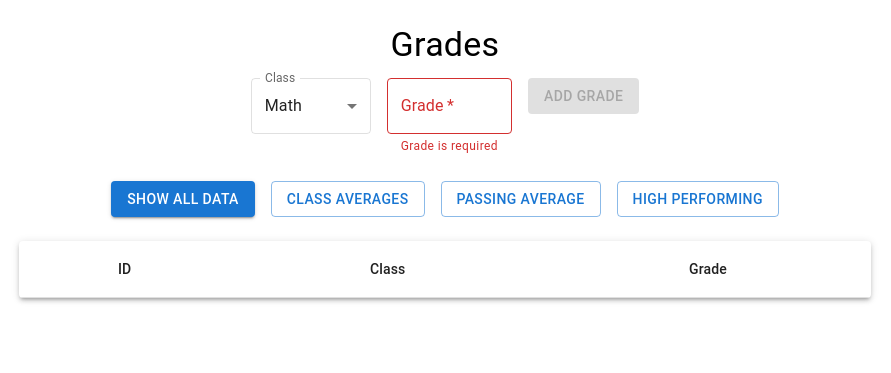
Test case: GradesPage › submits new grade and refreshes table
The image size is (891, 373).
Type "95" into the number field labelled "Grade *".
click(449, 106); type("95")  # box [387, 78, 512, 134]
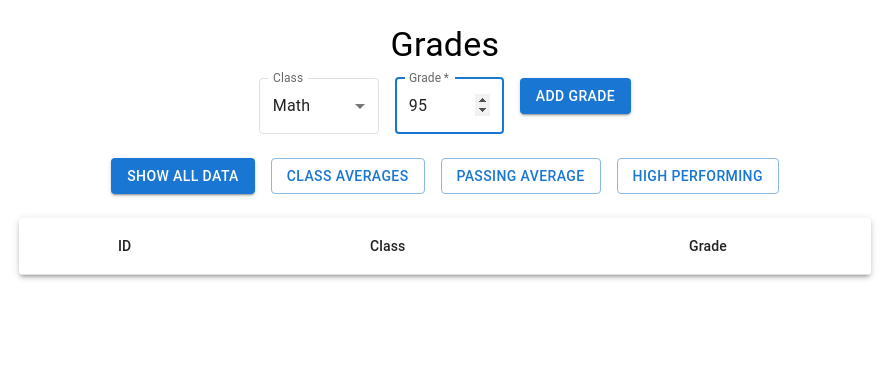
Click the button "Add Grade".
click(576, 96)  # box [520, 78, 631, 114]
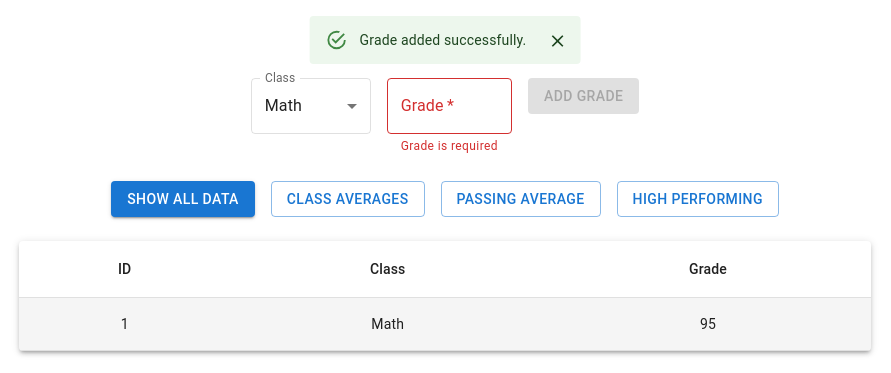
Result: the text "Math" is shown at [230, 298, 545, 351]
Result: the text "95" is shown at [545, 298, 871, 351]
